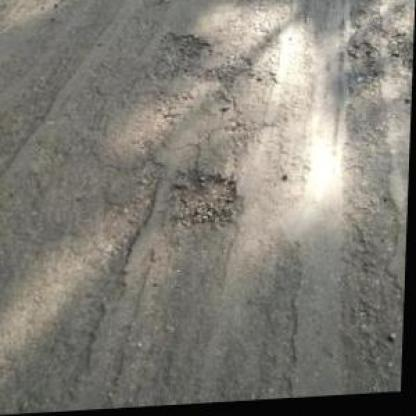pothole: (168, 170, 247, 235), (154, 32, 213, 69)
